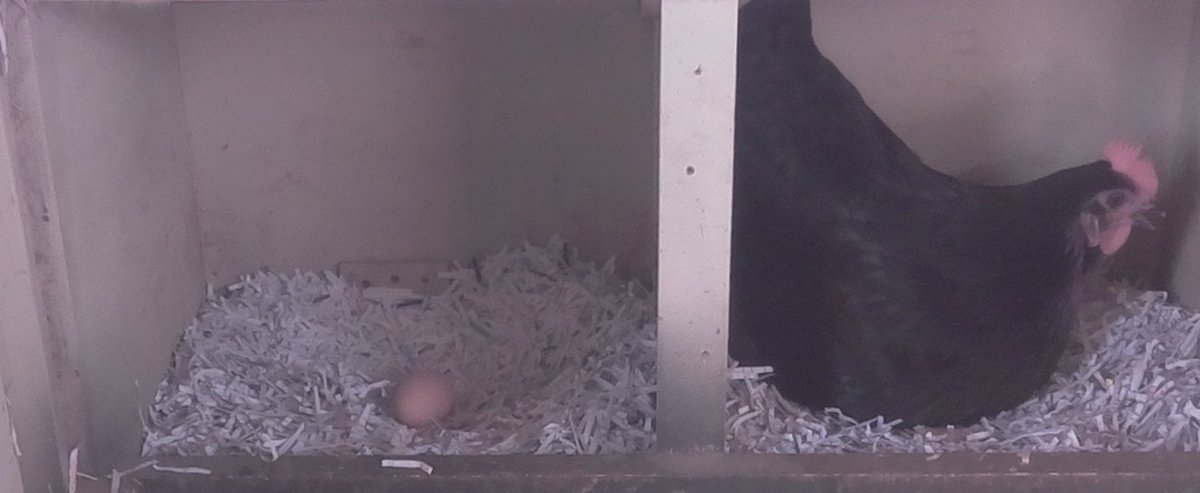egg: (384, 366, 461, 430)
hen: (739, 6, 1169, 421)
